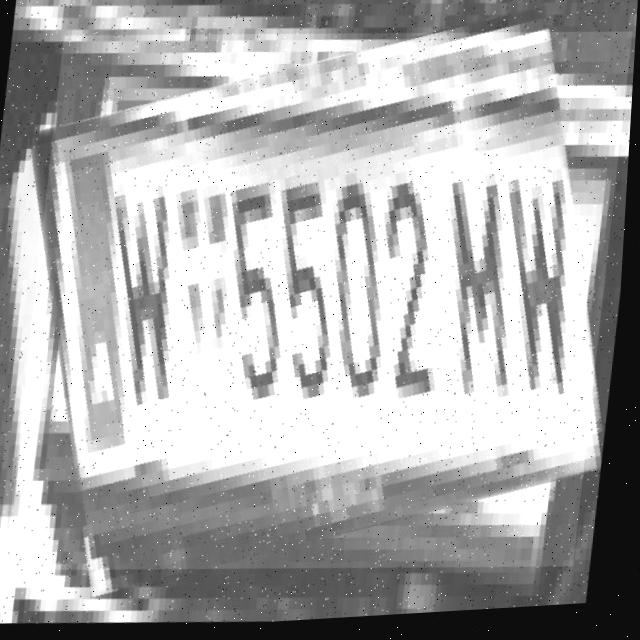LicensePlate: (10, 10, 635, 601)
